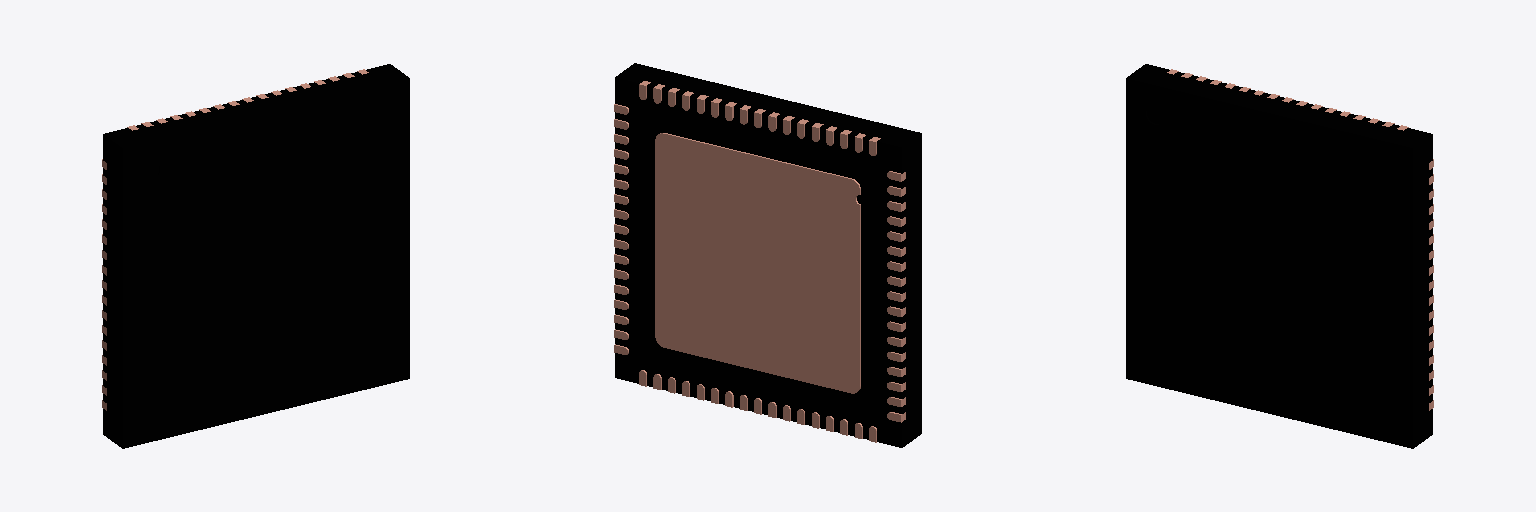
File: QFN.obj
3 views of the same model, side by side, from view 1: azimuth 30°, elevation 25°; view 2: azimuth 150°, elevation 25°; view 3: azimuth 330°, elevation 25° (orthographic).
Size of the model in its own units: 8 by 8 by 1.